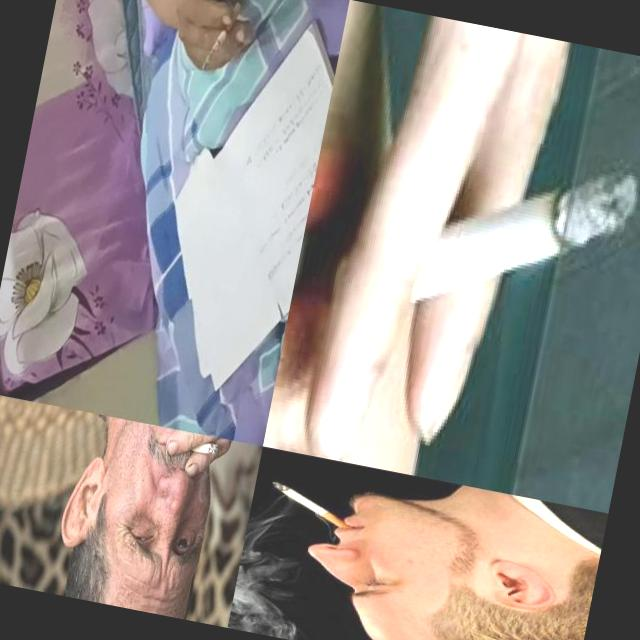smoke: (327, 115, 640, 364), (260, 476, 365, 536), (200, 0, 243, 78), (186, 436, 222, 462)
